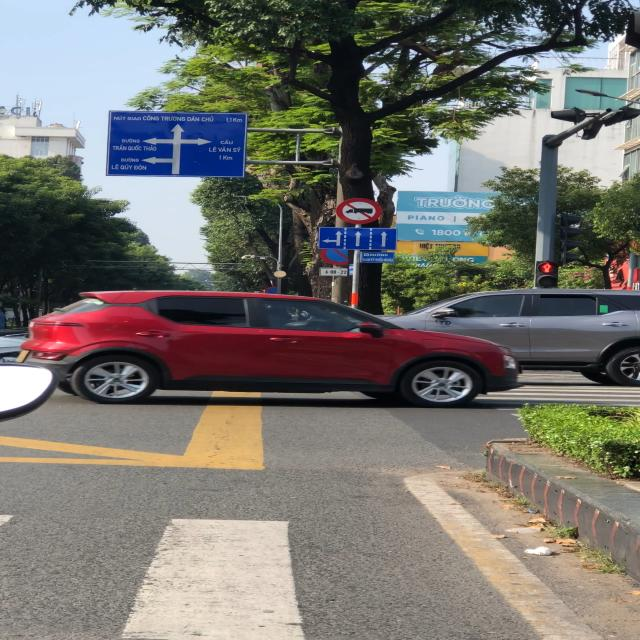Bien bao cam xe so-mi ro-mooc: (335, 196, 385, 225)
